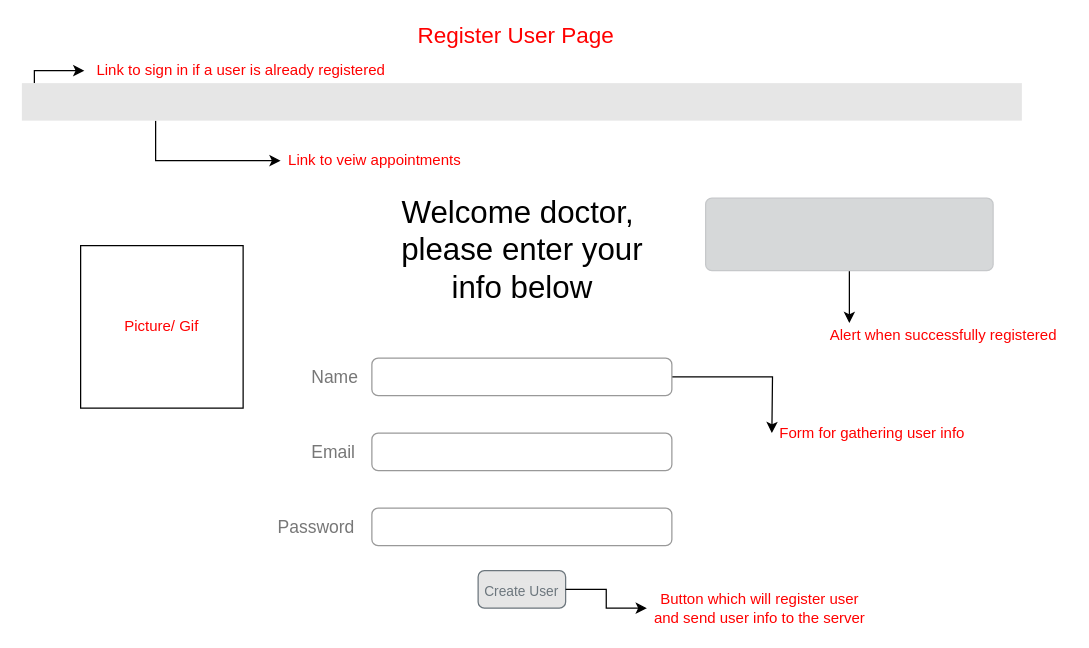
Image size: 1089x648. Some labels were removed from this diagram. The centre of each missing label's shape, as x and y in pixels:
Sign in My Appointments: [521,101]
You are now registered! You may now sign in: [848,234]
